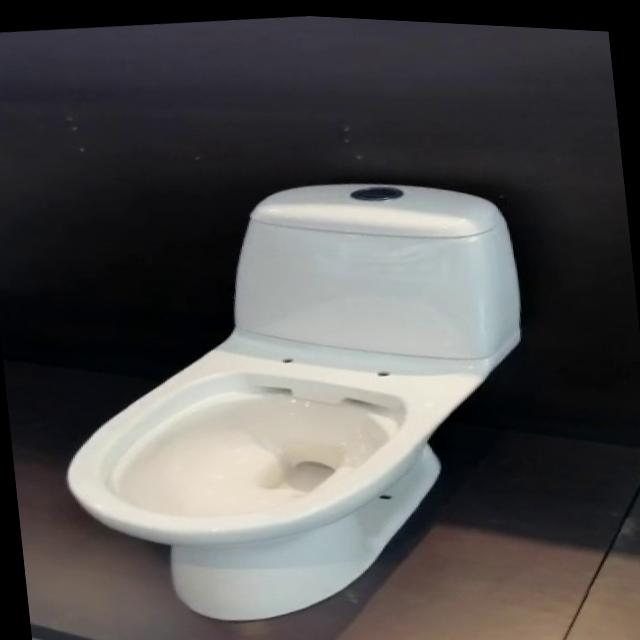toilet: (36, 147, 553, 640)
